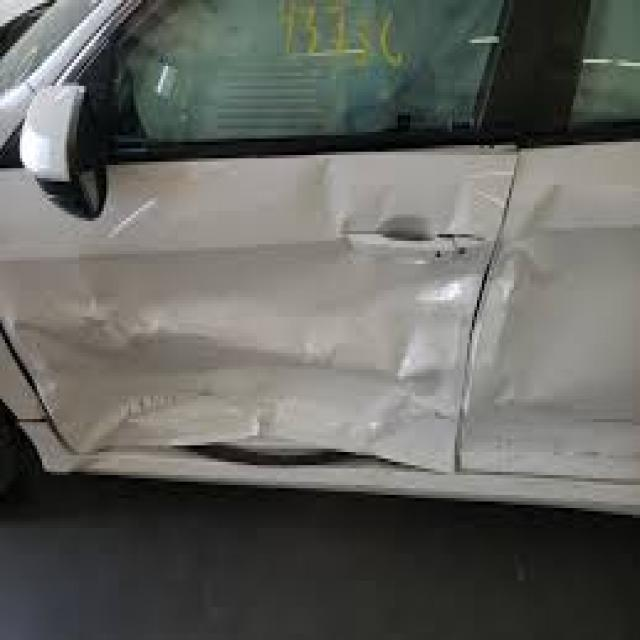damaged-door: (0, 0, 513, 521)
